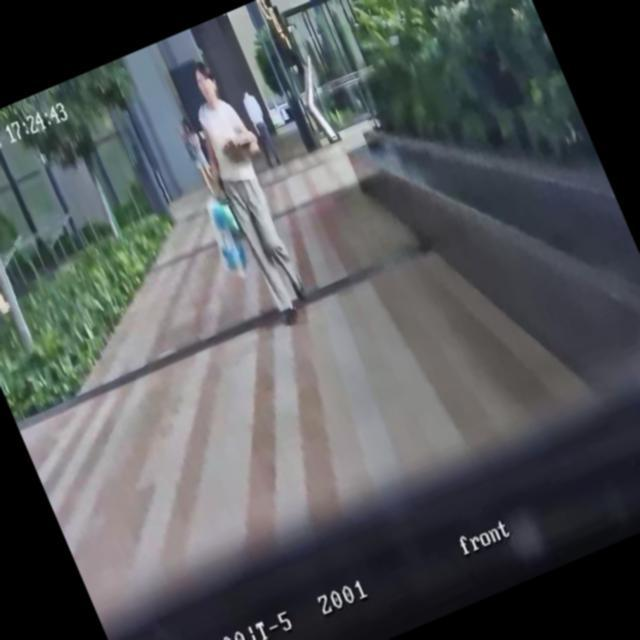person: (166, 53, 329, 331), (237, 85, 285, 169), (173, 114, 221, 198)
